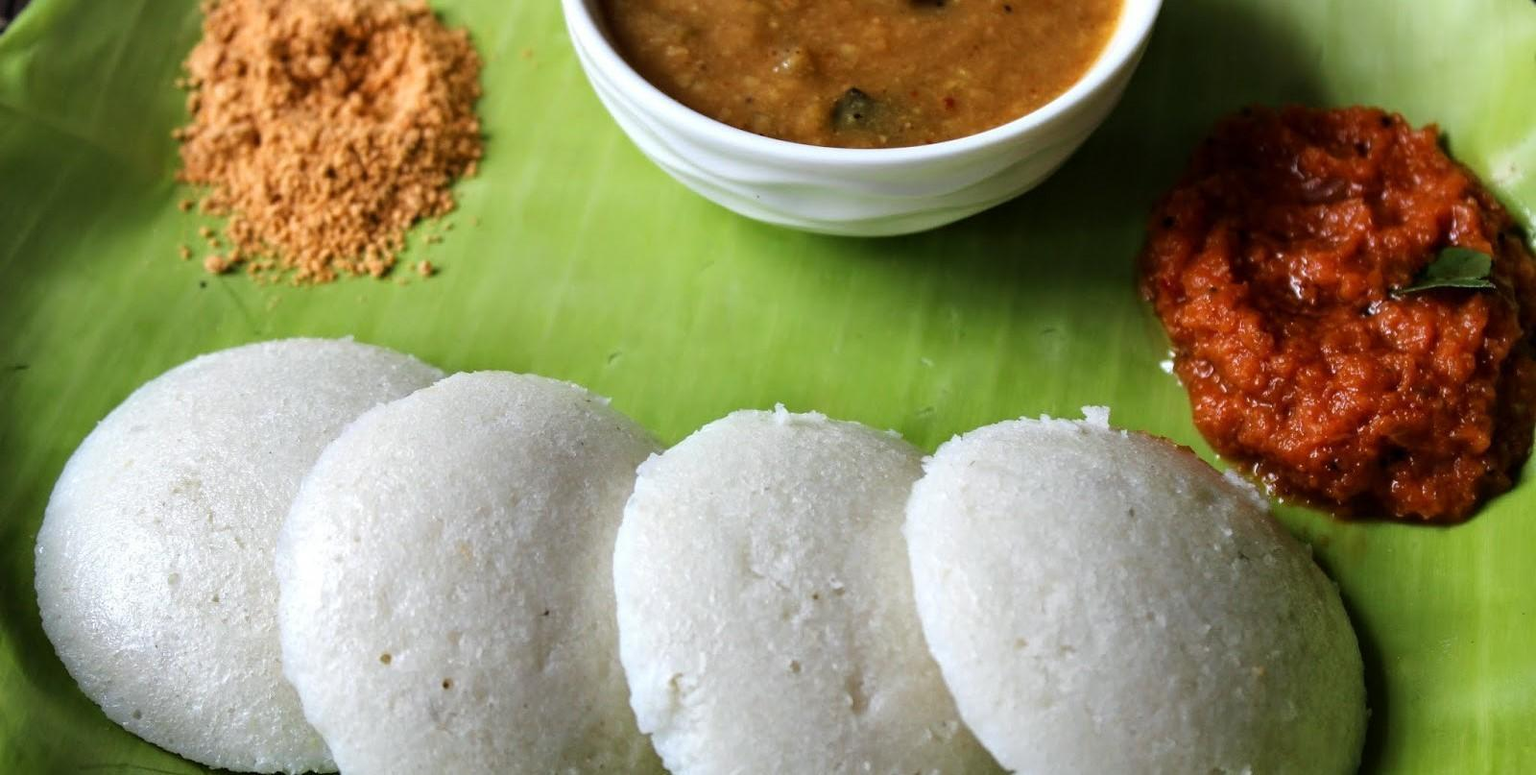Idli: (901, 402, 1369, 775), (33, 336, 430, 775), (289, 368, 665, 775), (621, 404, 952, 775)
